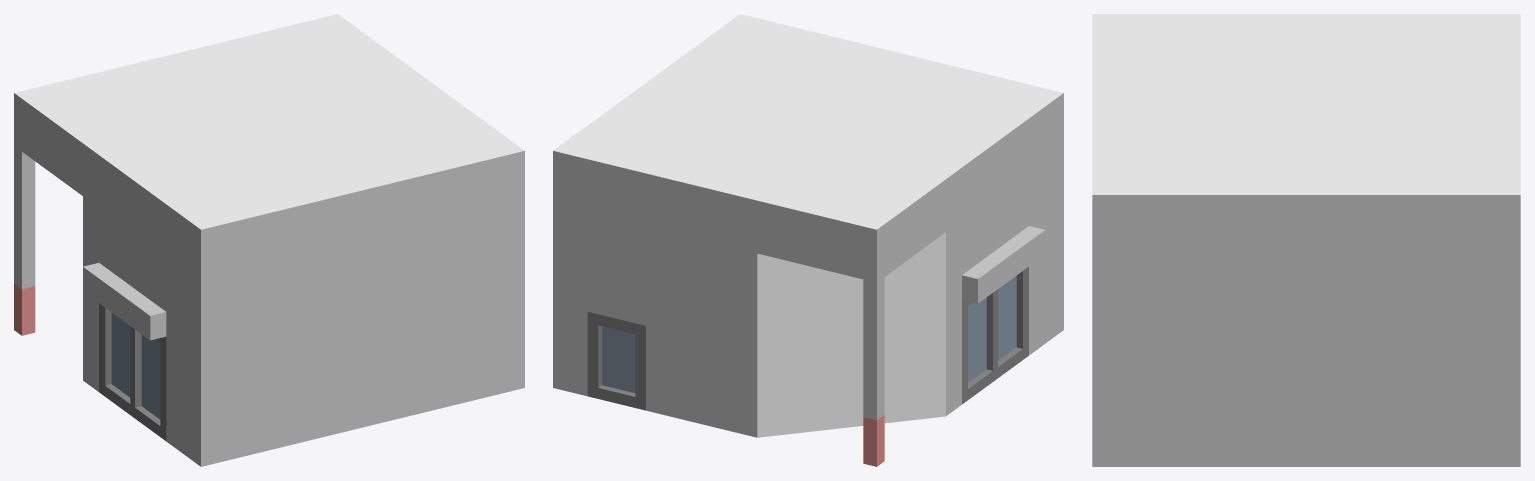
File: pitsGarageCorner.glb
3 renders of one model, left to right at view 1: azimuth 30°, elevation 25°; view 2: azimuth 150°, elevation 25°; view 3: azimuth 270°, elevation 25°, orthographic. The views are drawn at different scales.
Visible parts, largest first — view 1: pitsGarageCorner; view 2: pitsGarageCorner; view 3: pitsGarageCorner.
Boxes of the visible parts, x1,y1,x2,y2 form: pitsGarageCorner: (14, 14, 524, 466); pitsGarageCorner: (553, 14, 1063, 466); pitsGarageCorner: (1092, 14, 1520, 466).
Size of the model in its own units: 1.05 by 0.7 by 1.
